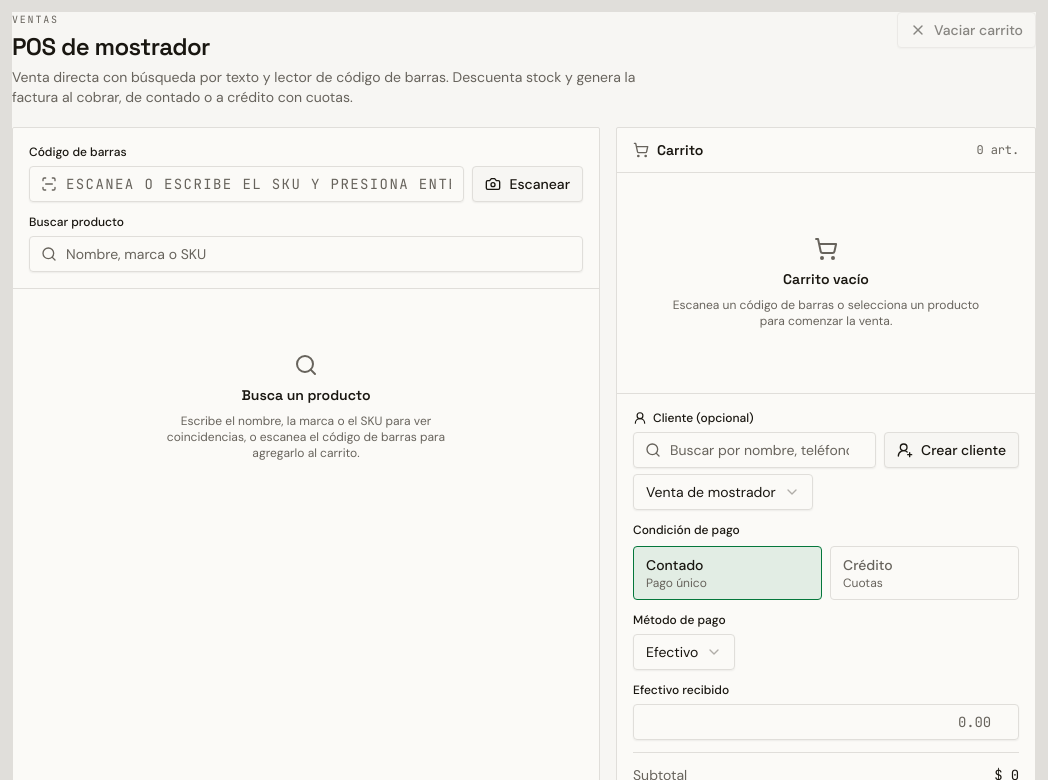
PosPage cart editing (characterization) › accepts a typed quantity and reflects it in the total
Type "balata" into the field with test id "pos.search_input" at (306, 254), box left=29, top=236, right=583, bottom=272
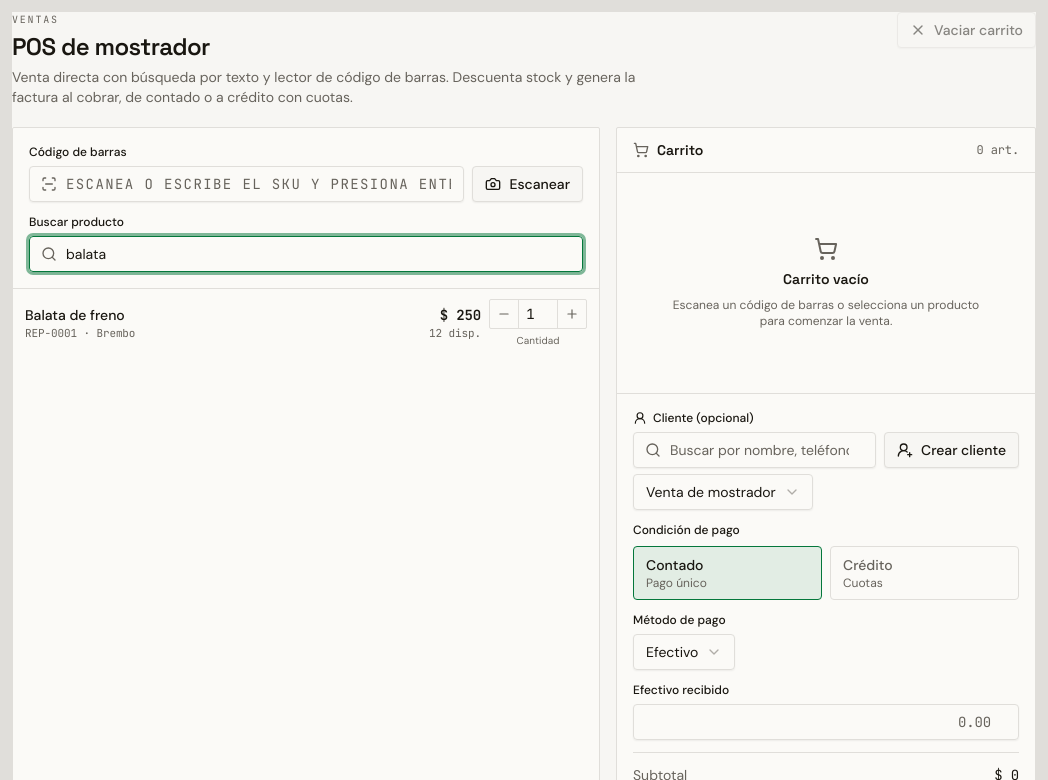
Now the button with test id "pos.product_item.1" is shown
Click the button with test id "pos.product_item.1" at (75, 315), box left=25, top=299, right=481, bottom=348
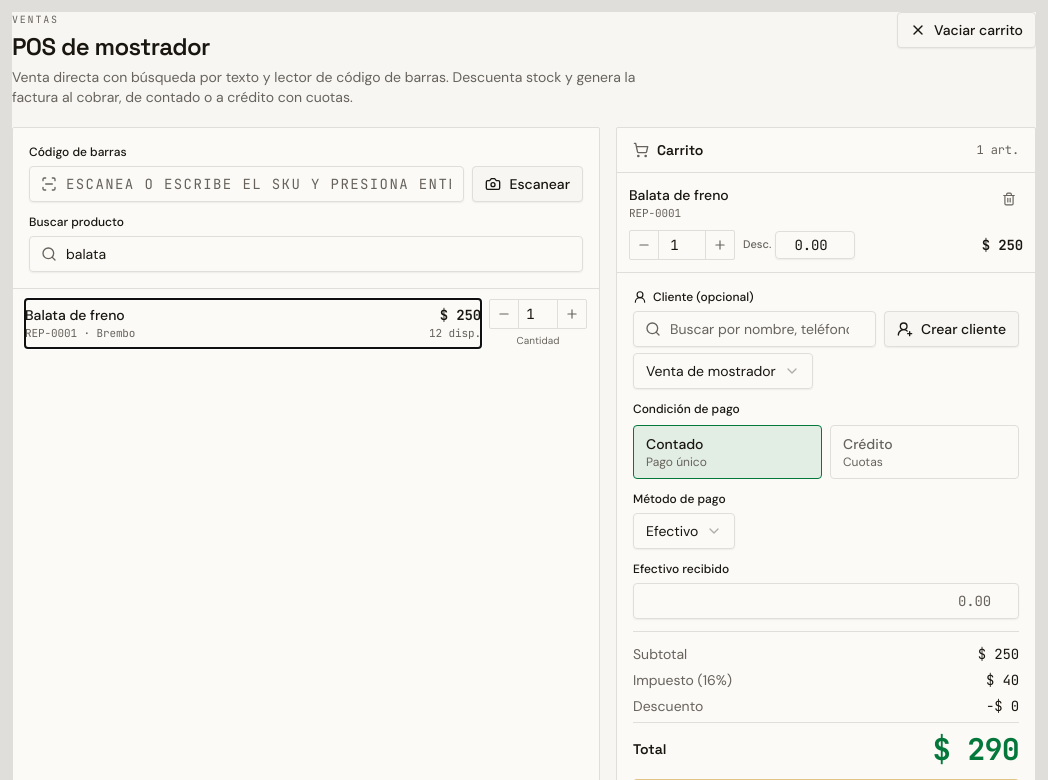
Click the number field with test id "pos.quantity_input.1" at (682, 244), box left=658, top=230, right=706, bottom=258
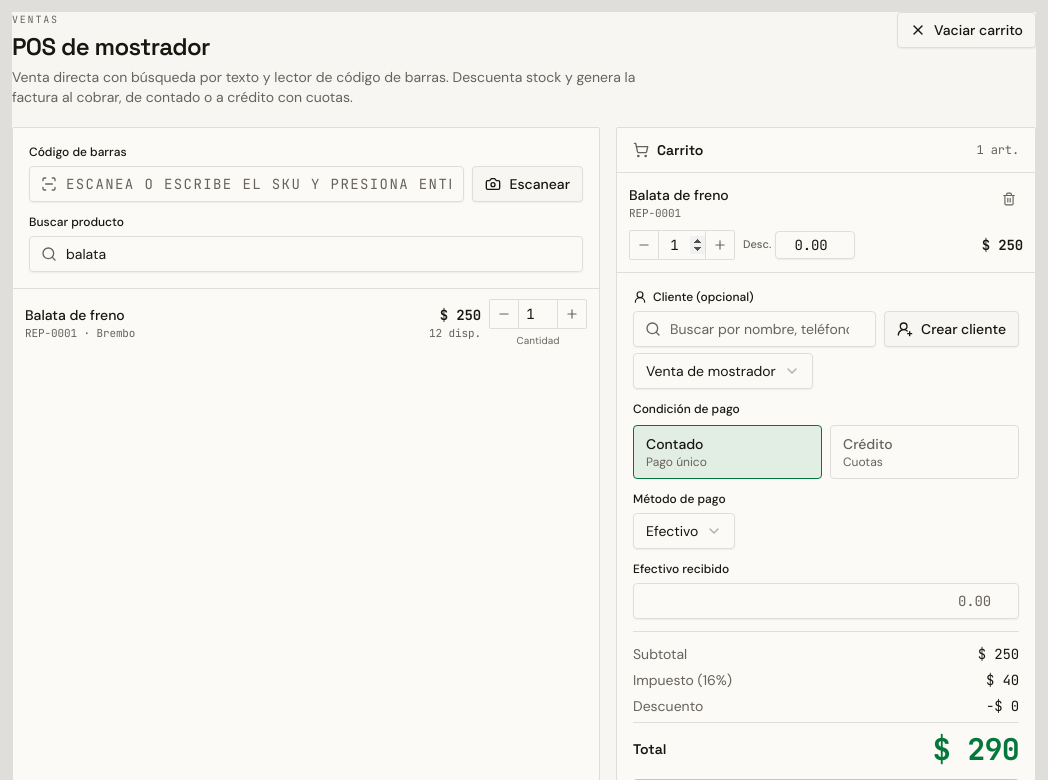
Type keys "3"
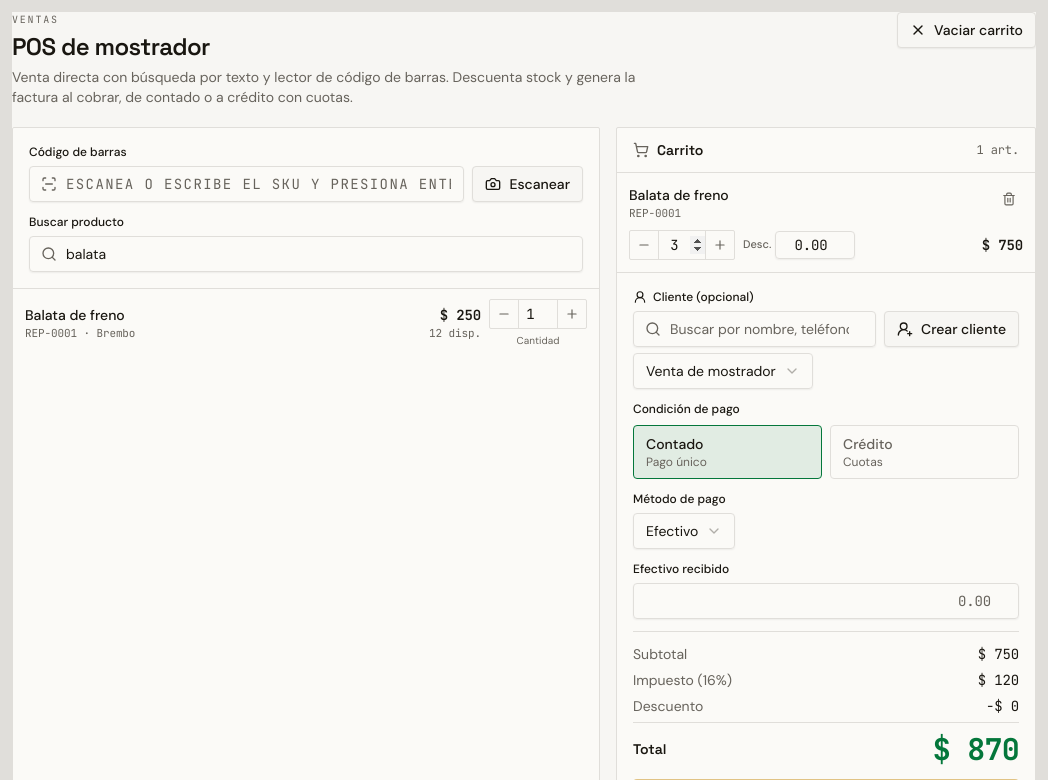
Now the number field with test id "pos.quantity_input.1" holds "3", box left=658, top=230, right=706, bottom=258
Now the text with test id "pos.total_value" shows "870", box left=933, top=728, right=1019, bottom=768
